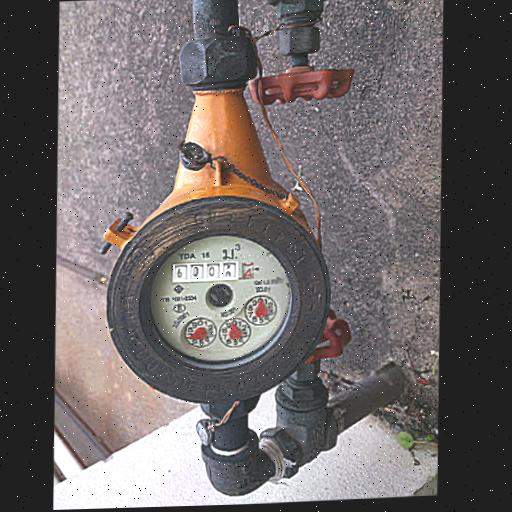0: (191, 265, 203, 279), (207, 264, 219, 278)
4: (242, 263, 252, 278)
6: (175, 265, 187, 280)
9: (224, 263, 236, 278)
border_water_meter_number: (172, 261, 255, 283)
